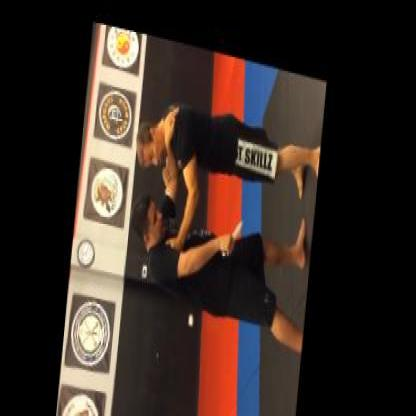knife: (224, 201, 247, 249)
